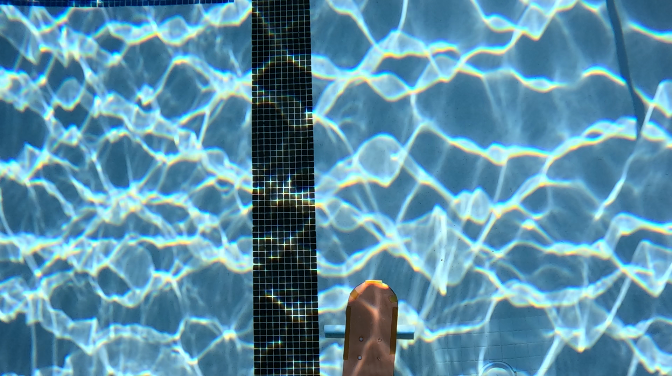pathmarker: (344, 280, 396, 375)
